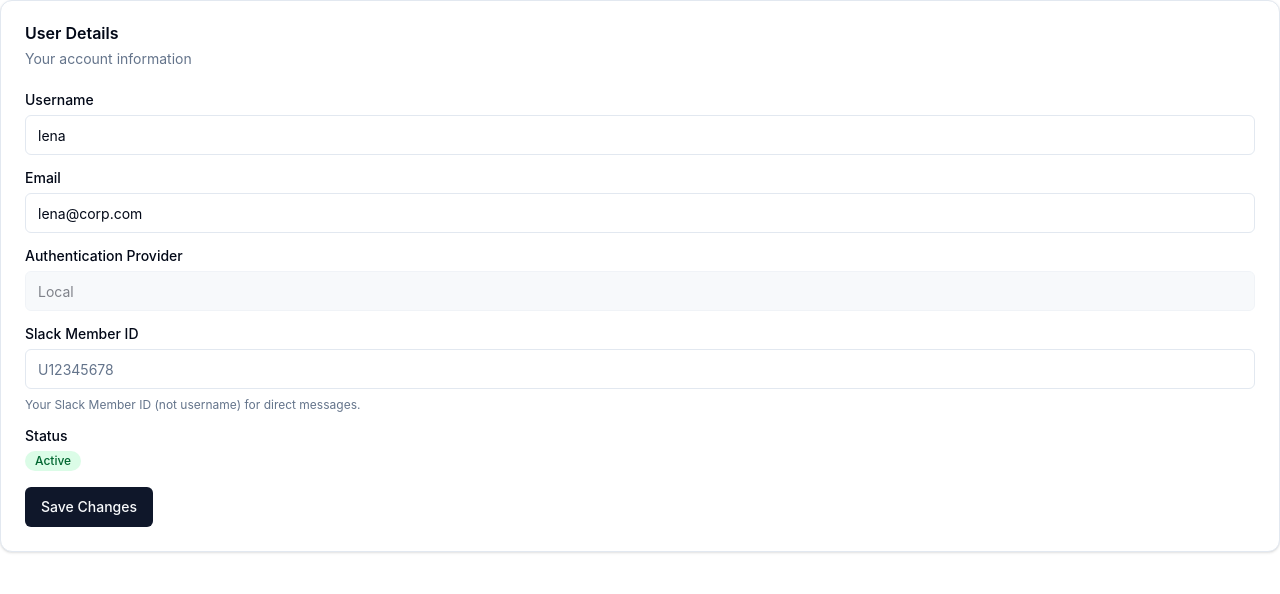
Scenario: UserDetailsCard › says under the field that the blank name  needs a username and sends nothing
The image size is (1280, 594).
Clear the field labelled "Username": (640, 135) [25, 115, 1255, 155]
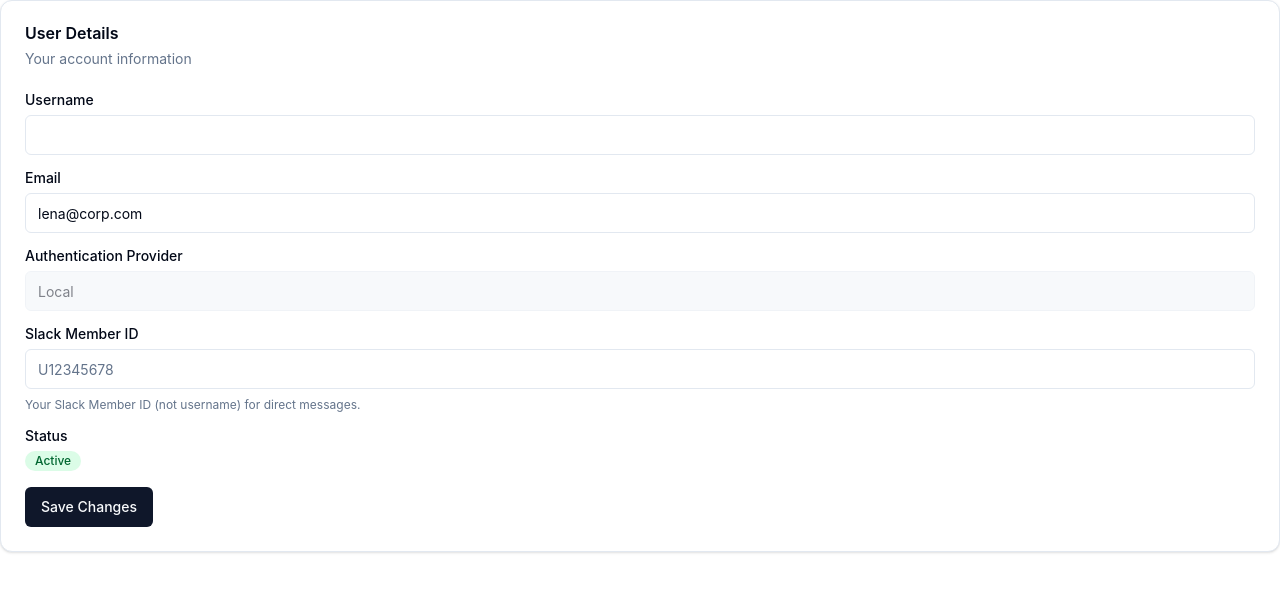
Click the button "Save Changes": (89, 507) [25, 487, 153, 527]
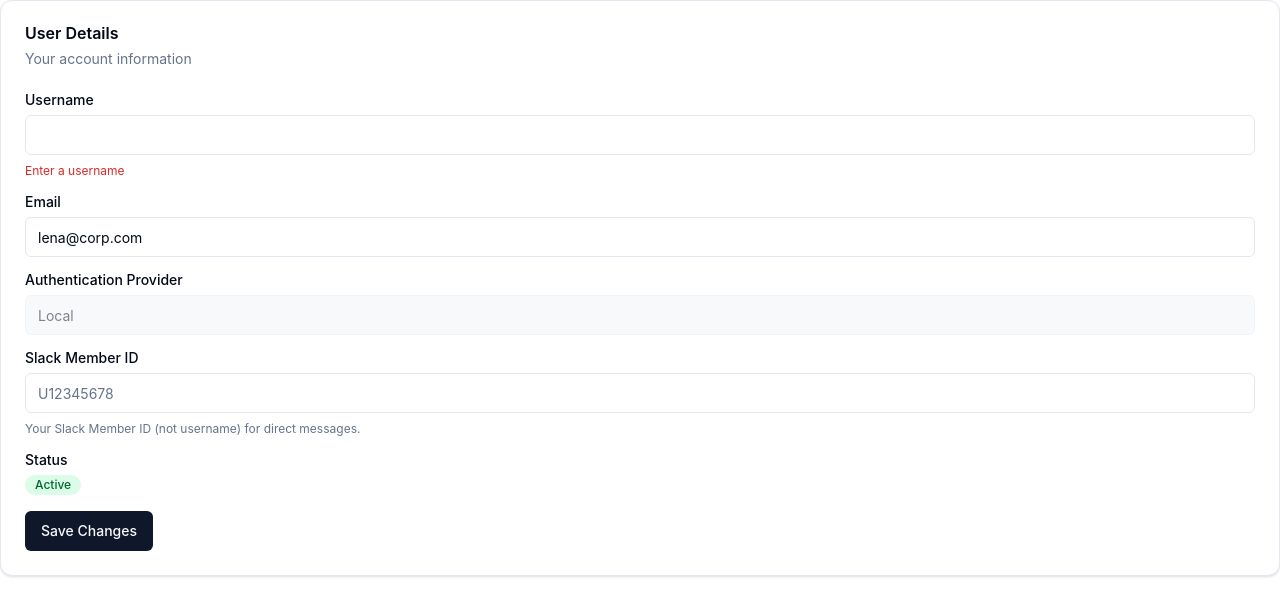
Expected: the message reads "Enter a username", [25, 163, 125, 178]
In the field labelled "Username": (640, 135) [25, 115, 1255, 155], type "lena.k"
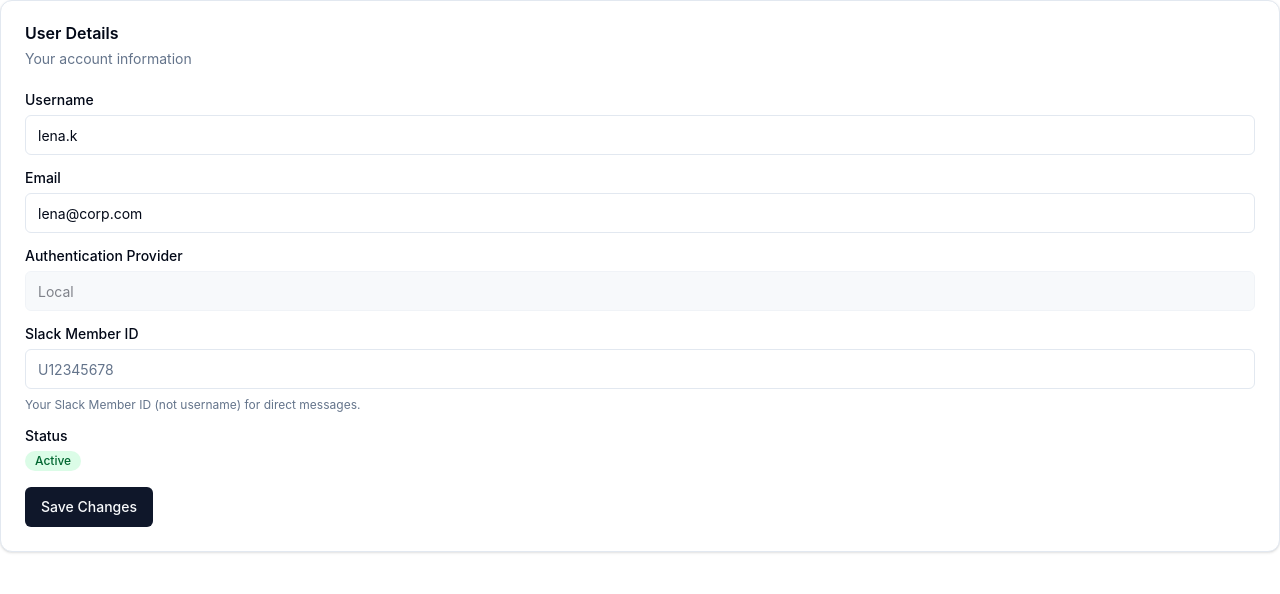
Expected: the message "Enter a username" is gone
